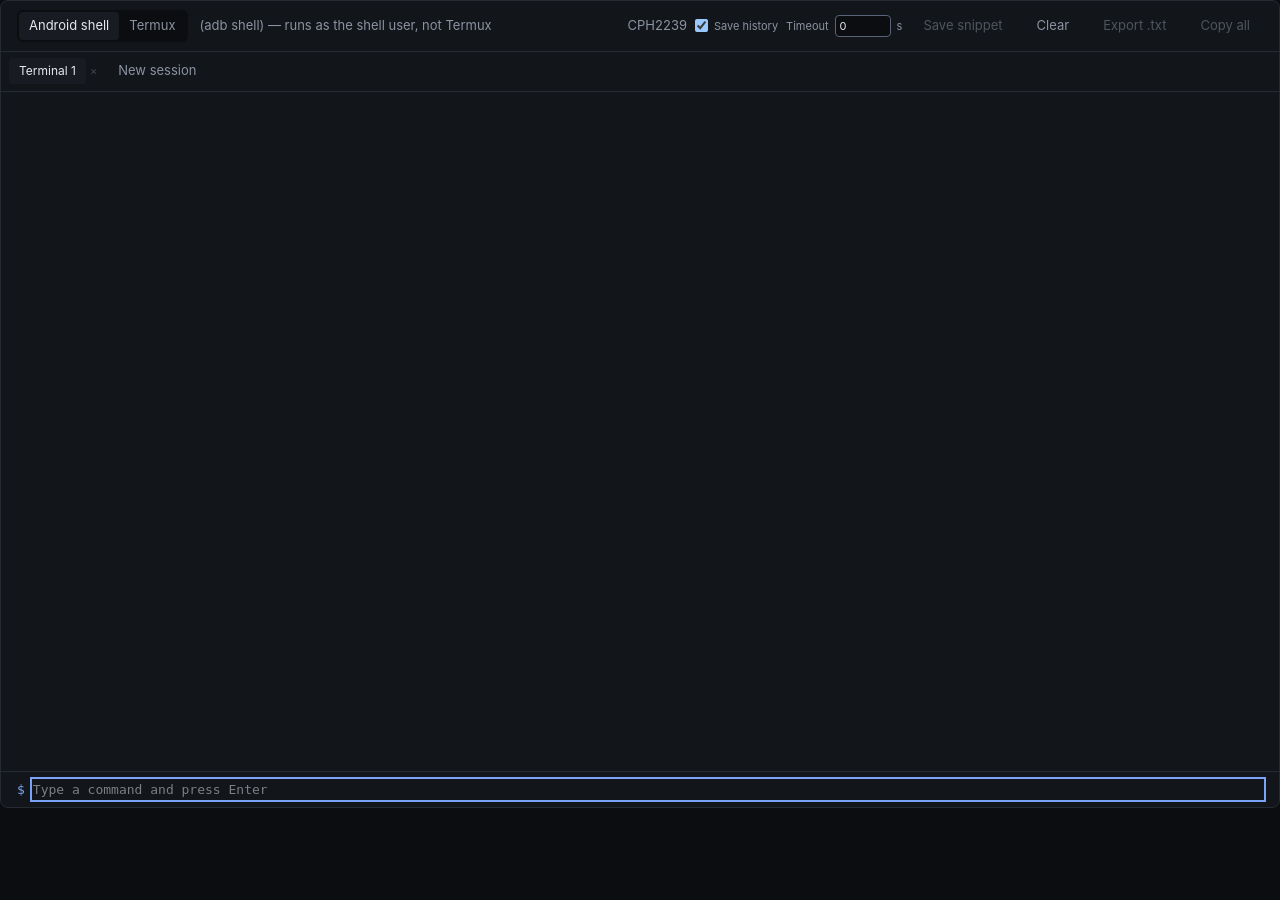
TerminalView › cancels a running command
Type "logcat" into the field labelled "command" at [648, 789], box [33,780,1263,799]
Then press Enter
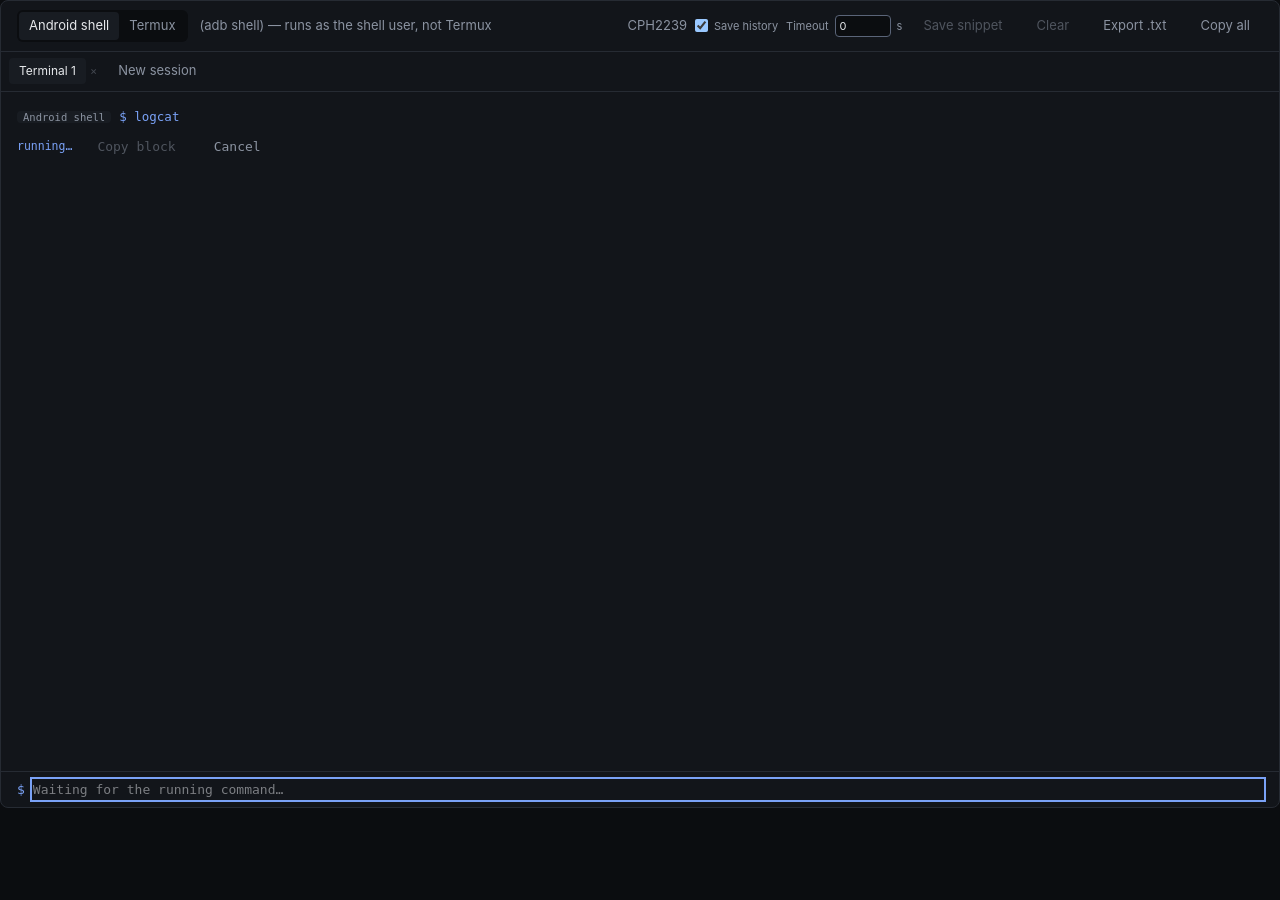
Click the button "Cancel" at [237, 147], box [201,130,274,164]
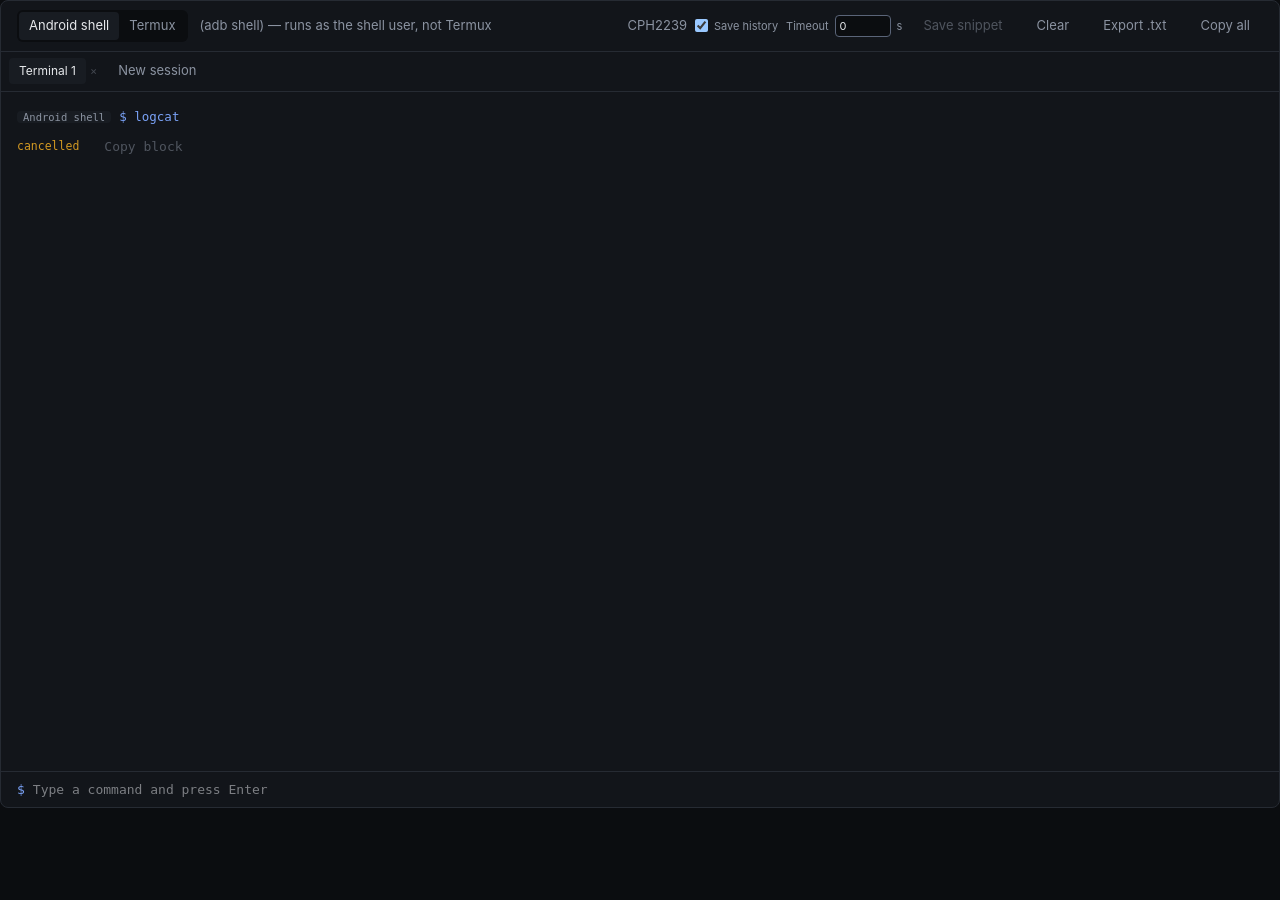
Check: the text "cancelled" is shown, box [17,138,79,156]
